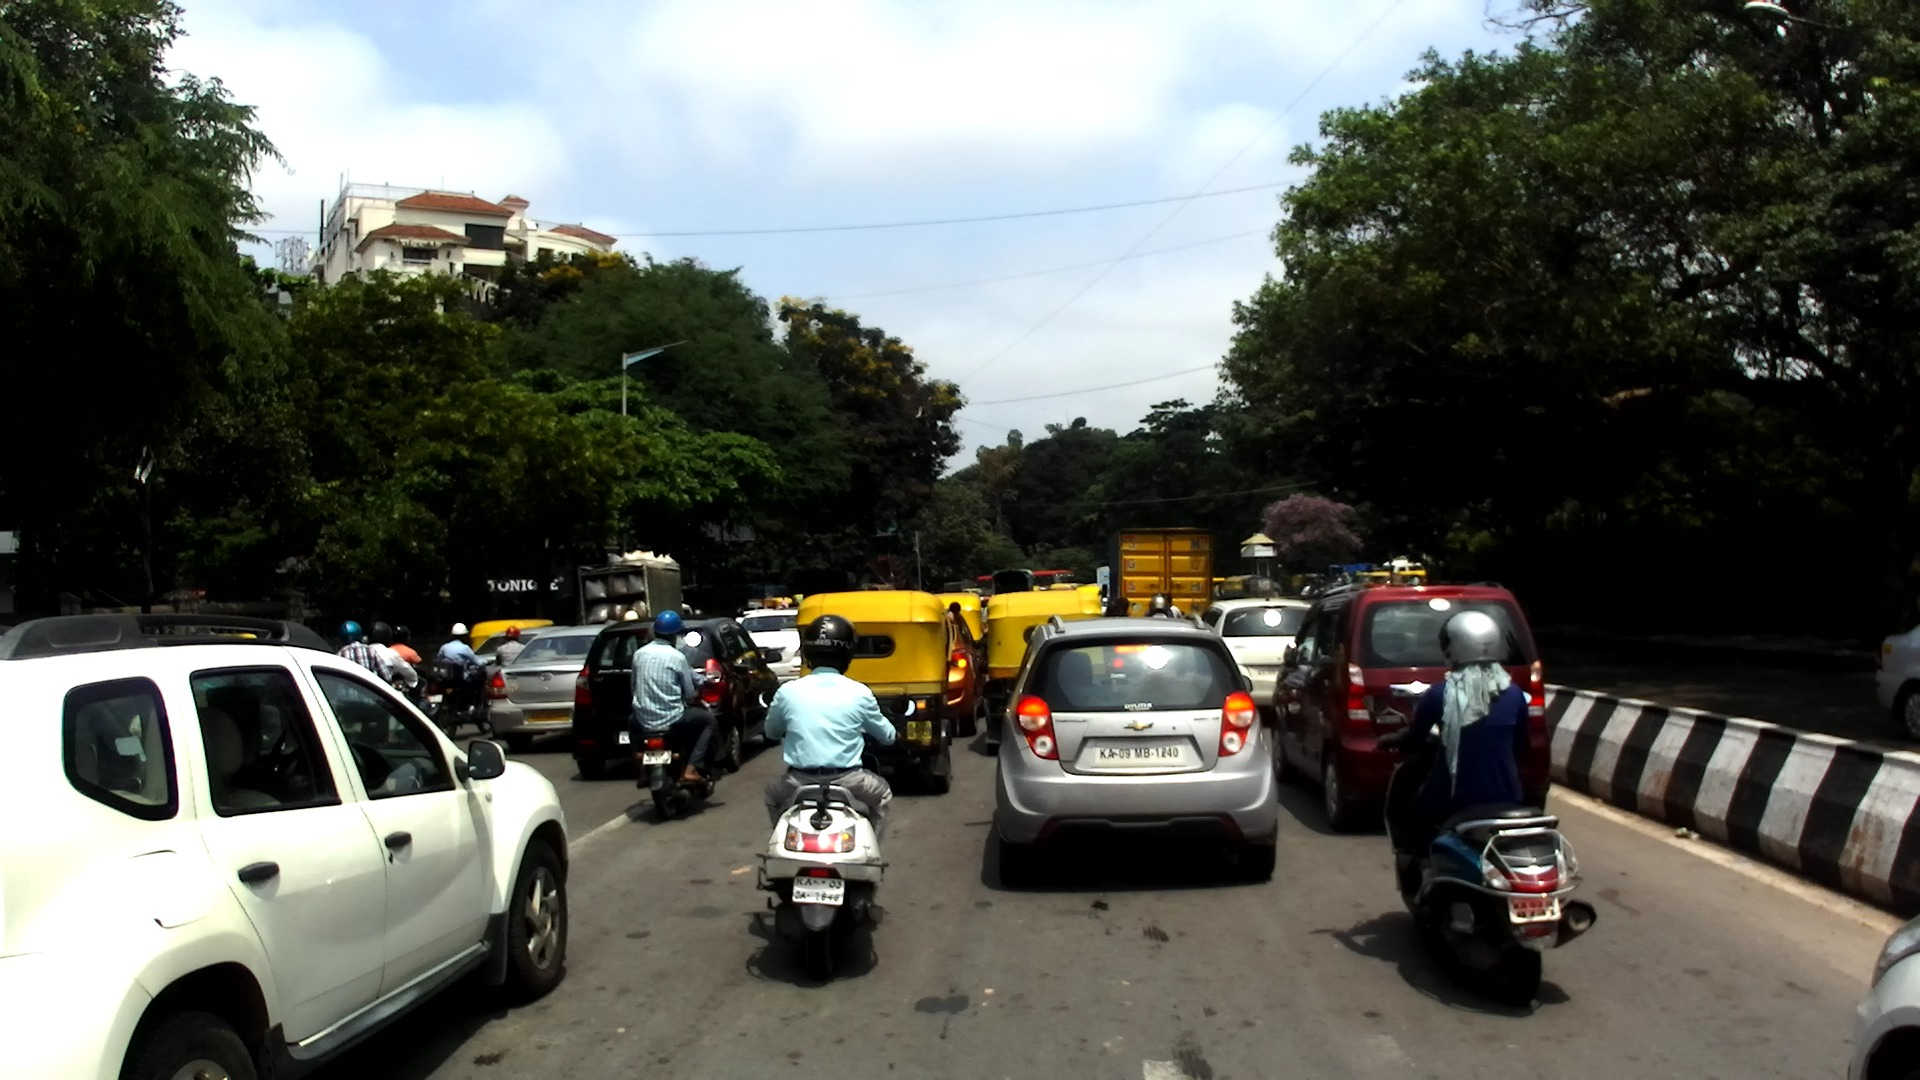autorickshaw: (795, 590, 960, 794), (982, 587, 1127, 759), (937, 590, 991, 695), (468, 618, 556, 662), (1290, 572, 1325, 596), (1218, 574, 1248, 603), (1354, 570, 1393, 586), (1210, 576, 1228, 599)
bus: (974, 567, 1080, 596)
car: (1, 610, 571, 1076), (980, 611, 1280, 887), (1269, 582, 1555, 833), (569, 614, 784, 782), (487, 624, 640, 751), (1200, 598, 1338, 728), (1846, 915, 1920, 1080), (736, 607, 813, 690), (469, 625, 572, 686), (1874, 621, 1920, 742), (943, 608, 984, 741), (1382, 559, 1428, 585), (1245, 578, 1283, 602)
motorcycle: (1355, 695, 1600, 1005), (756, 694, 918, 981), (632, 668, 724, 819), (416, 656, 502, 741), (369, 662, 432, 730), (1301, 579, 1344, 607), (398, 663, 427, 691)
rider: (1375, 610, 1534, 887), (762, 614, 899, 863), (630, 610, 717, 786), (643, 621, 715, 721), (435, 620, 487, 720), (331, 619, 393, 699), (365, 623, 420, 701), (385, 623, 425, 704), (495, 623, 526, 673), (1104, 597, 1131, 623), (1159, 594, 1182, 621), (1145, 596, 1170, 620), (1329, 566, 1341, 599), (1338, 567, 1353, 585)
truck: (574, 551, 702, 637), (1106, 526, 1215, 627), (990, 569, 1034, 597)
vehicle fallback: (1098, 565, 1117, 616), (936, 581, 975, 597), (764, 595, 795, 610), (1051, 580, 1086, 593)
